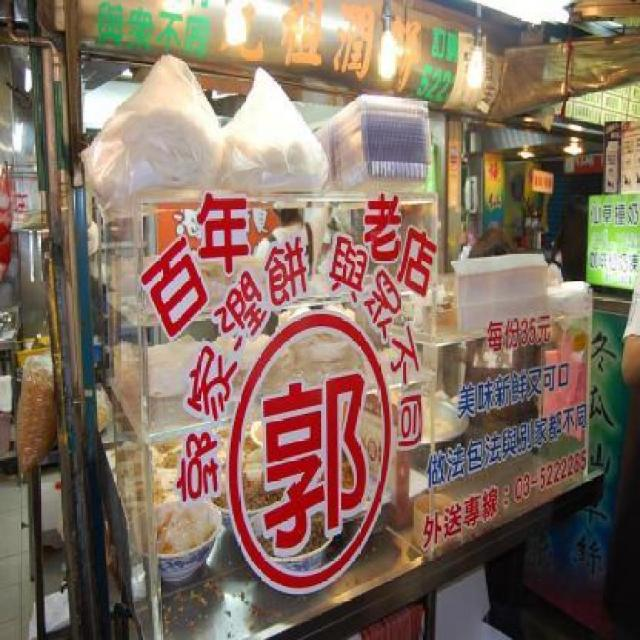plastic bag: (77, 49, 225, 209), (215, 64, 332, 184), (15, 352, 57, 477), (97, 383, 108, 429)
